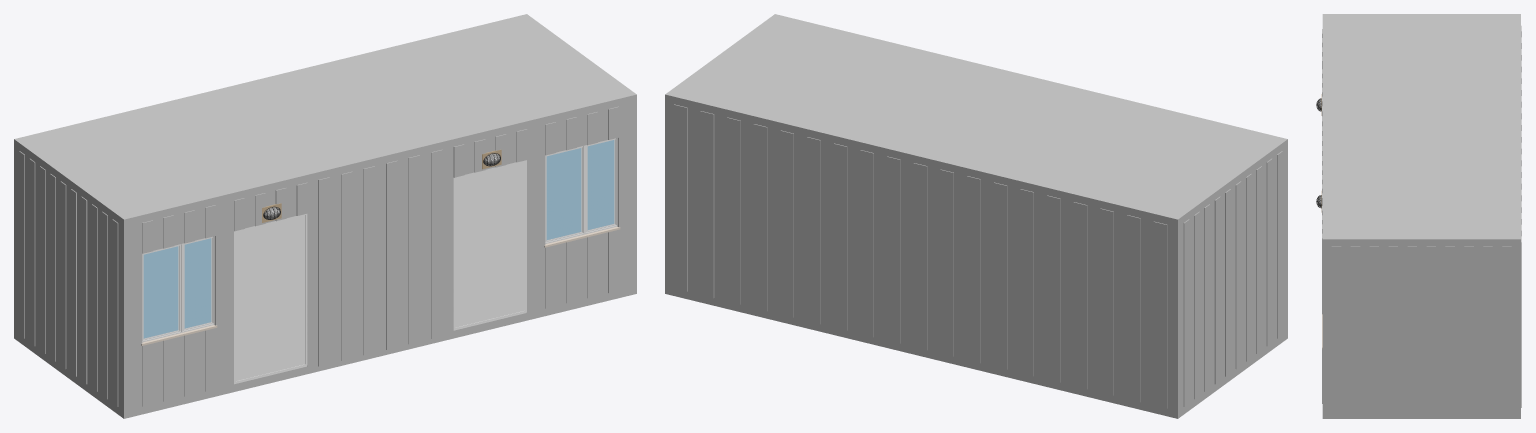
Rendered from konteynrer.dae.
3 views of the same model, side by side, from view 1: azimuth 30°, elevation 25°; view 2: azimuth 150°, elevation 25°; view 3: azimuth 270°, elevation 25° (orthographic). The views are drawn at different scales.
Parts seen in each view (by area): view 1: Plane, Plane_004, Window_003, Window_000, Cube_001; view 2: Plane, Plane_004; view 3: Plane, Plane_004.
Boxes of the visible parts, left/top/right/bottom form: Plane: left=14, top=14, right=636, bottom=418; Plane_004: left=19, top=106, right=618, bottom=406; Window_003: left=234, top=160, right=526, bottom=383; Window_000: left=141, top=138, right=620, bottom=345; Cube_001: left=262, top=149, right=501, bottom=222; Plane: left=665, top=14, right=1287, bottom=418; Plane_004: left=673, top=104, right=1282, bottom=408; Plane: left=1322, top=14, right=1520, bottom=418; Plane_004: left=1322, top=25, right=1521, bottom=412.
Bounding box in the file's own units: 7.02 × 2.69 × 2.6.
